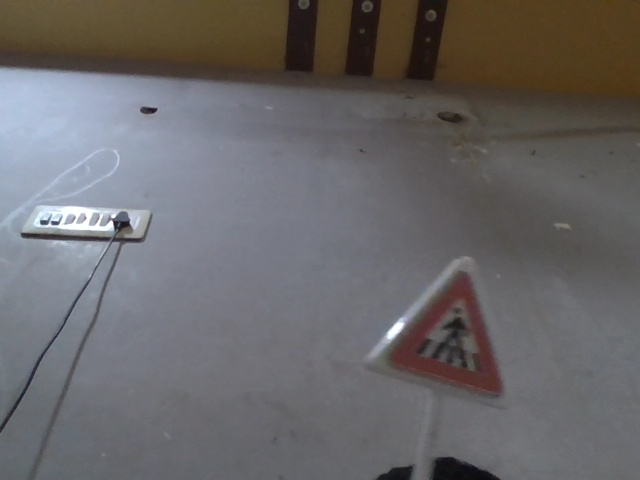crossing: (376, 250, 507, 393)
